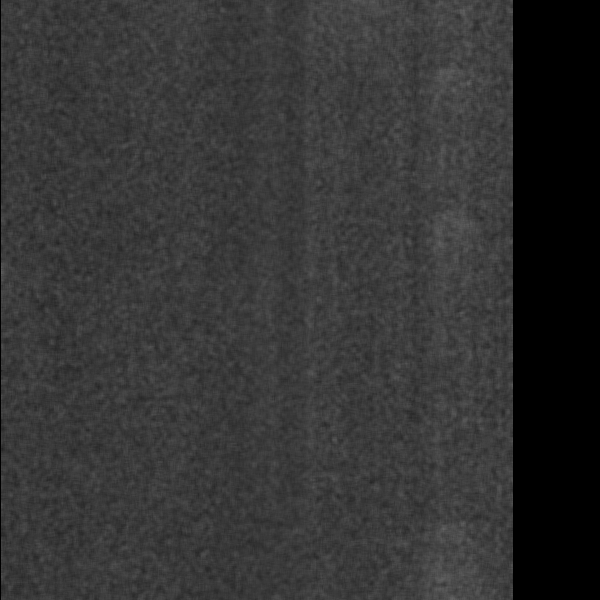spark: (250, 114, 284, 185), (186, 15, 235, 60), (193, 420, 228, 467), (172, 146, 228, 175)
